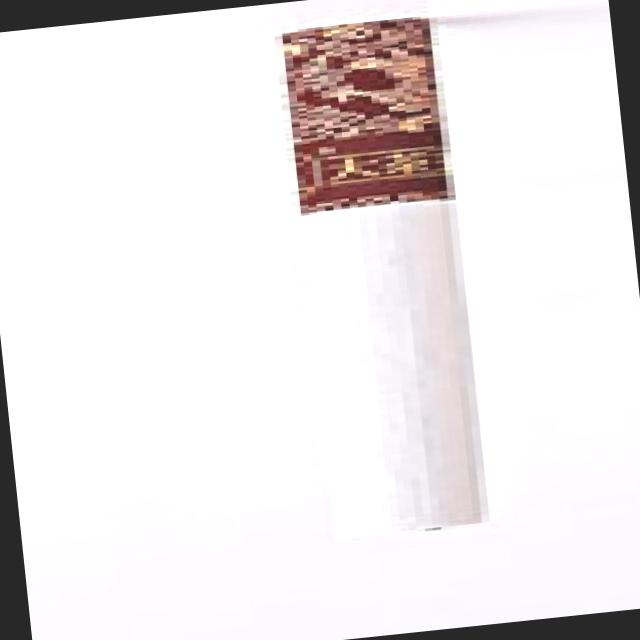smoke: (264, 14, 498, 548)
